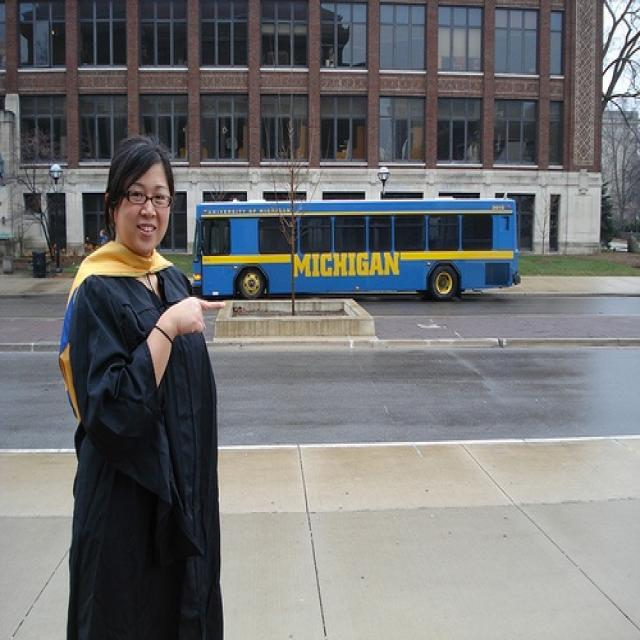bus: (195, 200, 521, 300)
